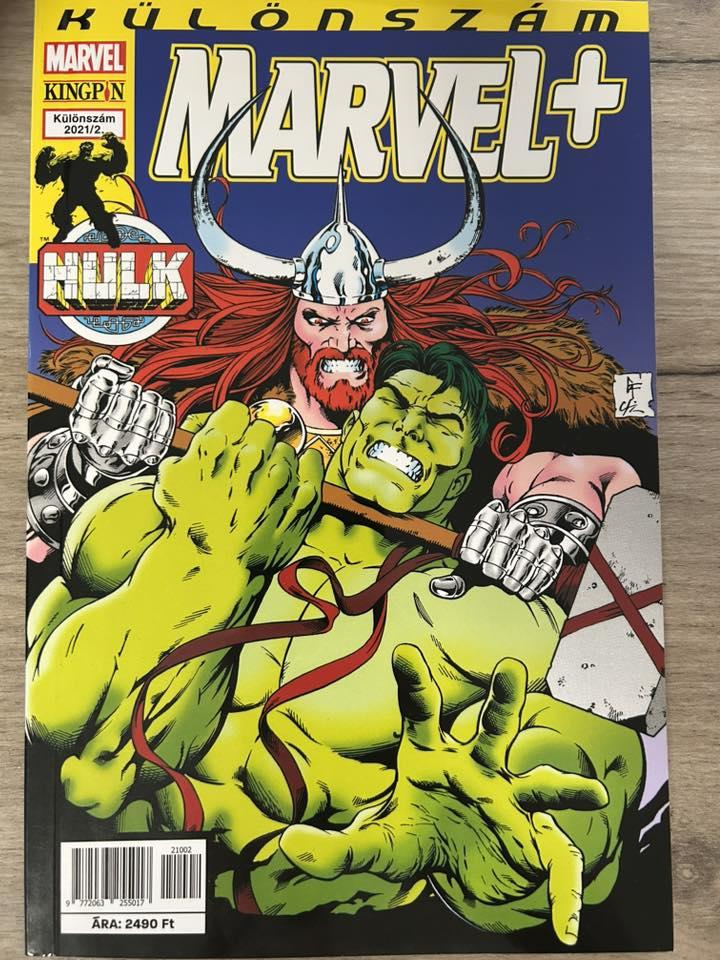comic: (18, 0, 671, 958)
